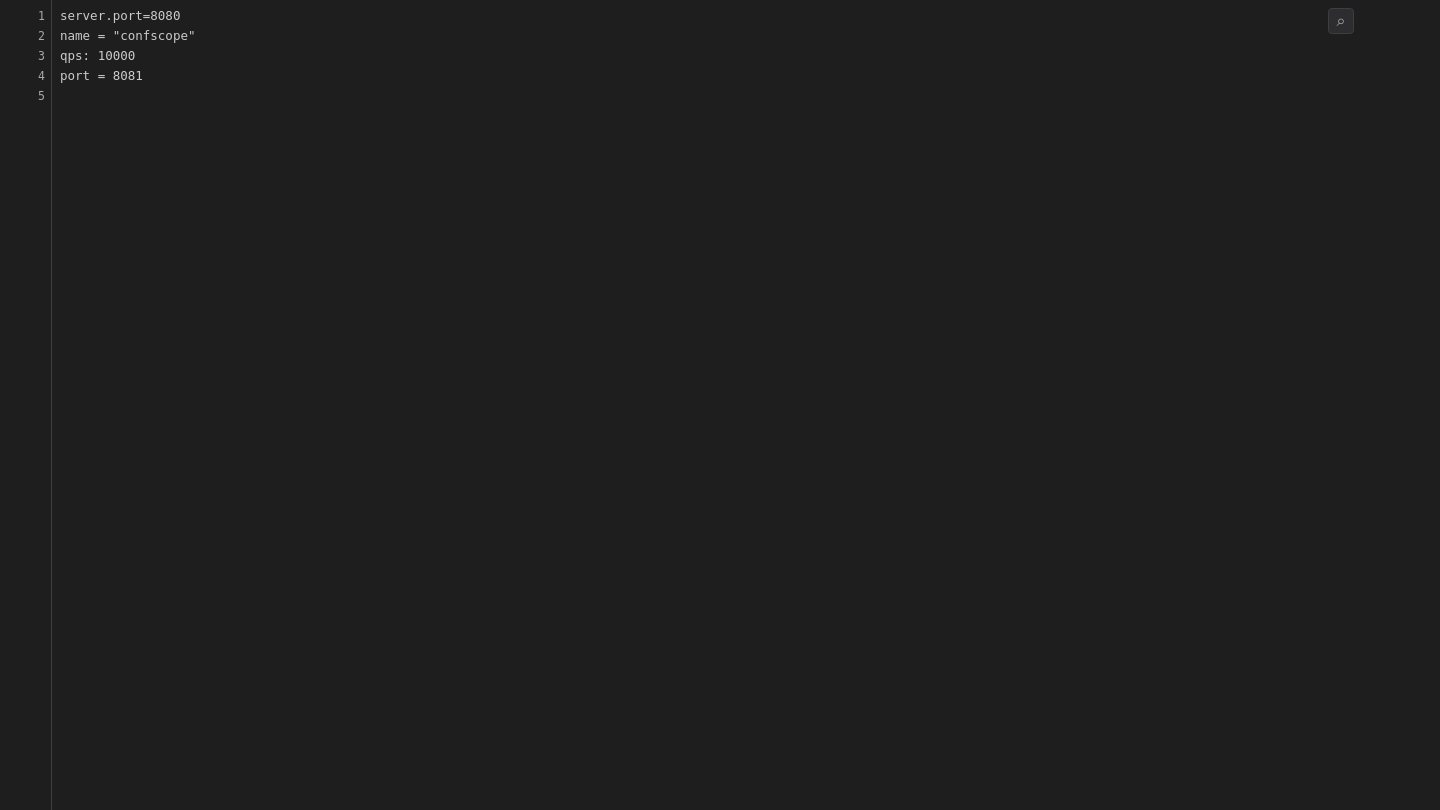
浏览态：选中正文后按 Ctrl+F，查找词就是那段选中 › 栏已开着又选了新的文字：选区赢过旧词（这正是这次按键想做的事）
Press f
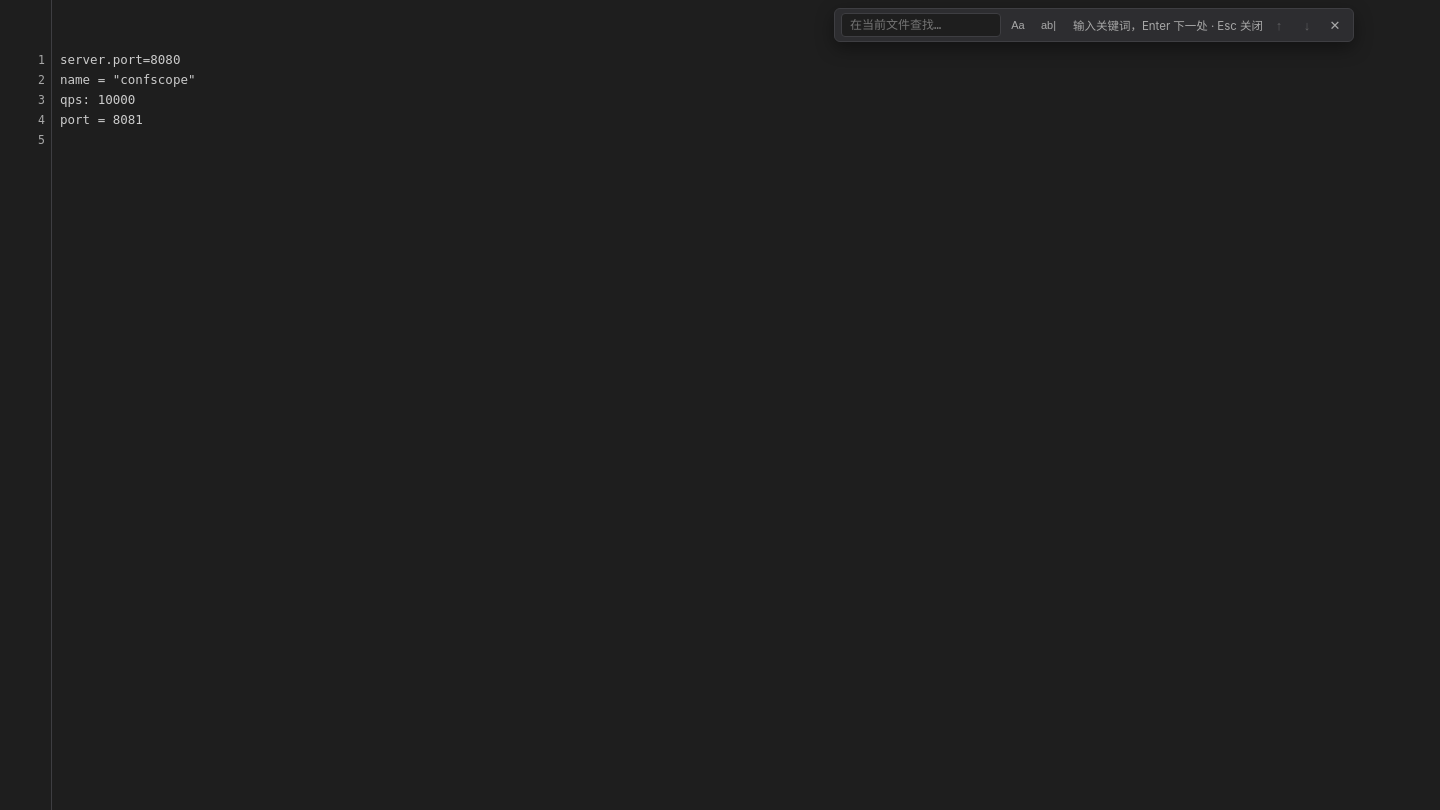
Type "port" into the field with class "code-find-input". click: [921, 25]
box: [841,13,1001,37]
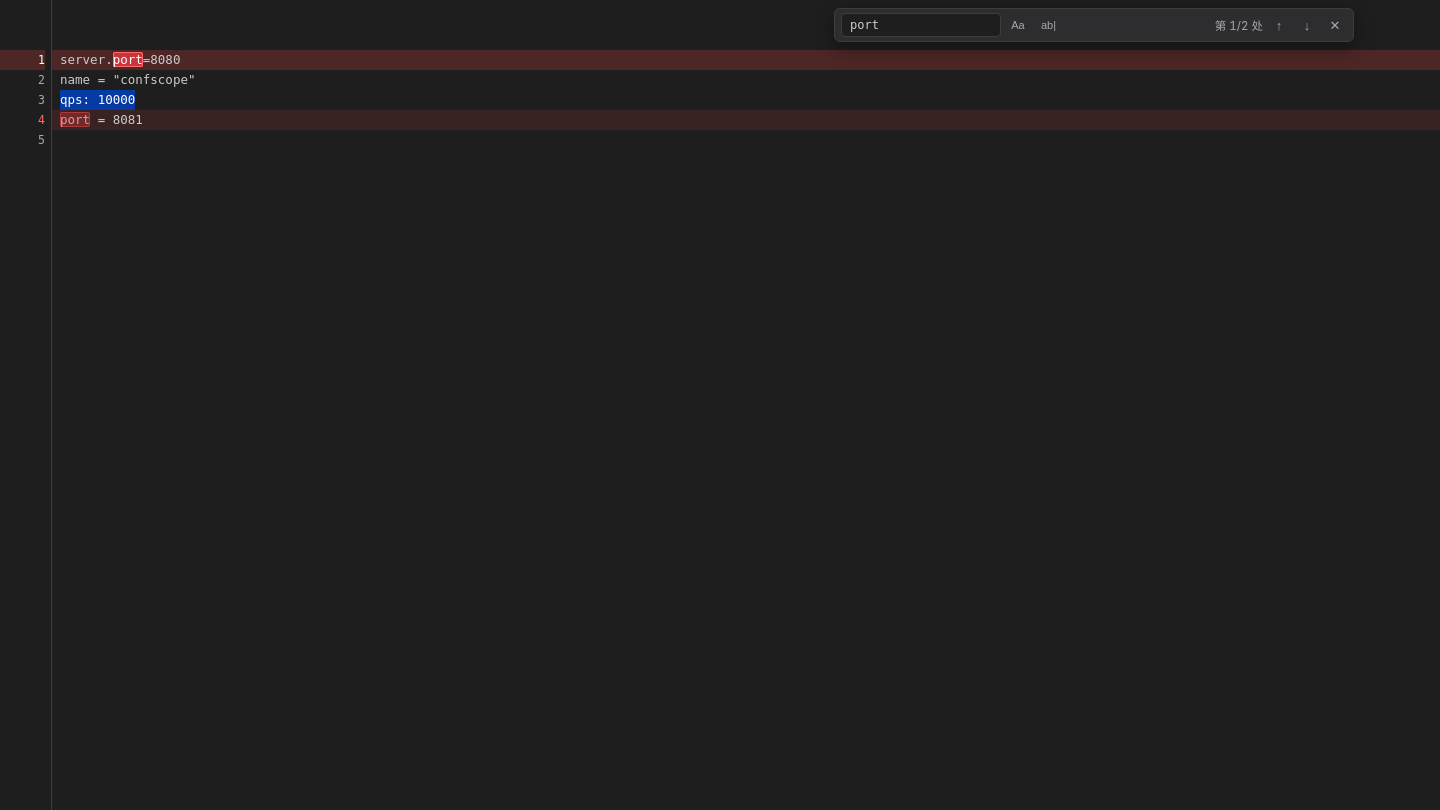
Press f
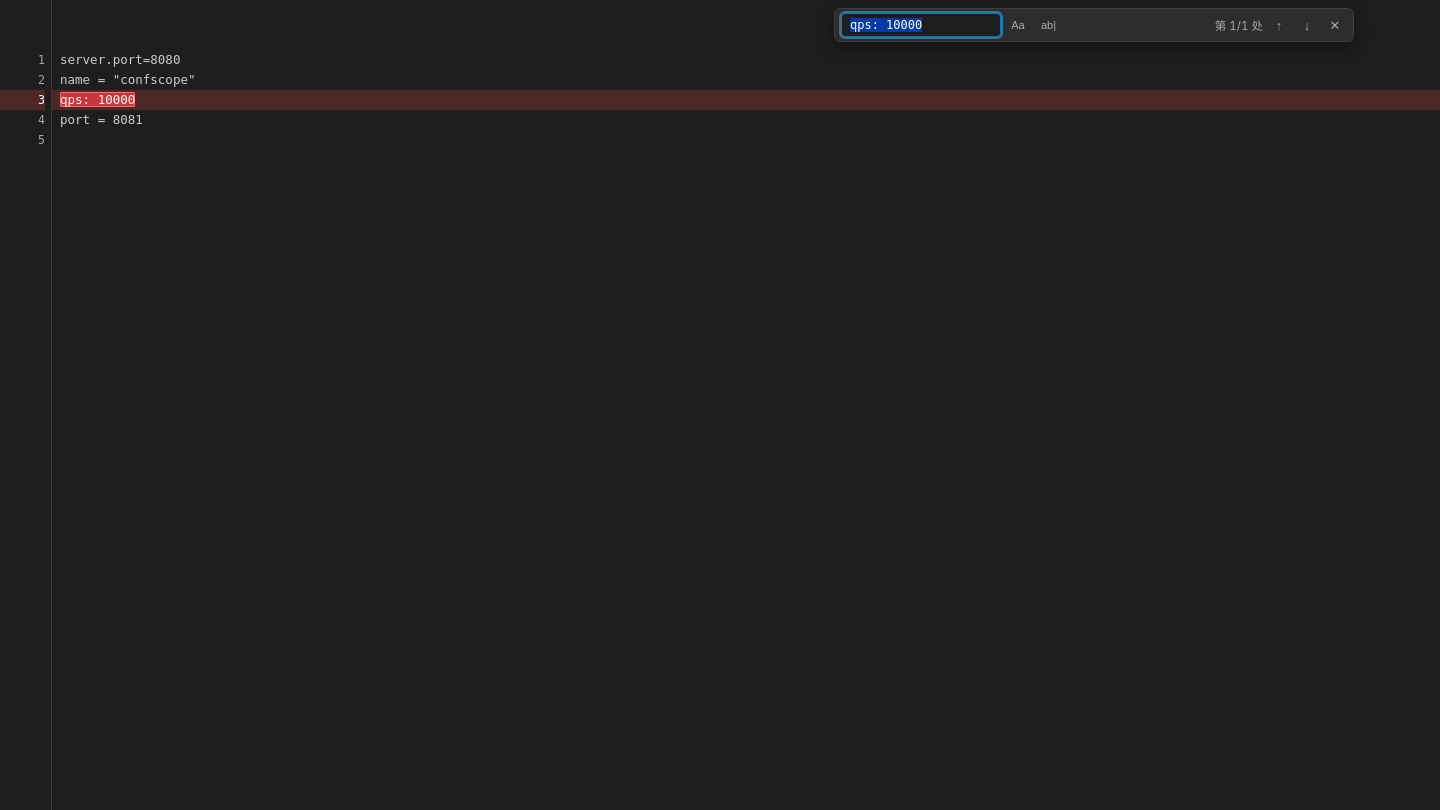
Expected: the field with class "code-find-input" holds "qps: 10000", [841,13,1001,37]
